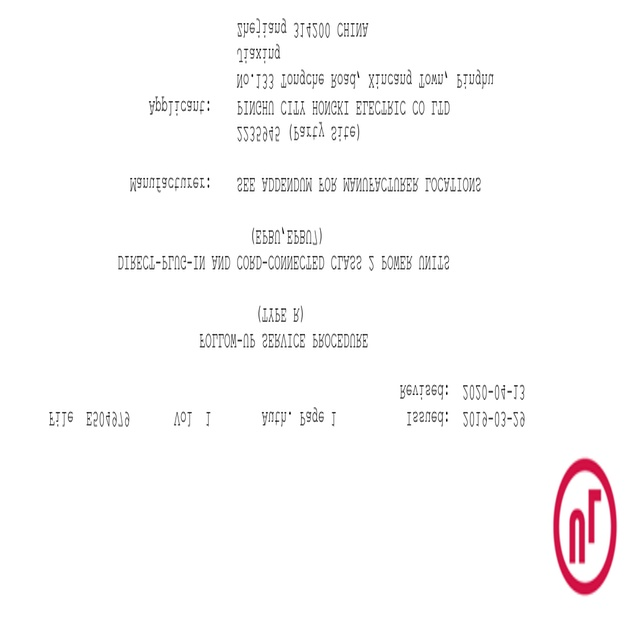ul: (553, 453, 618, 598)
